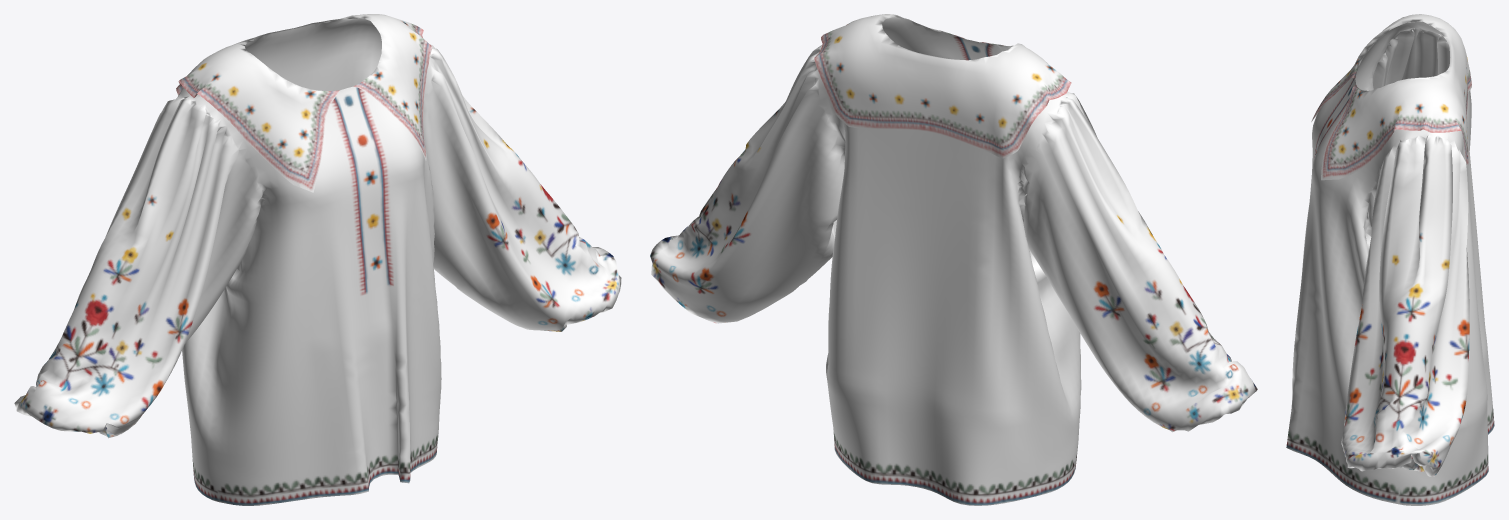
File: Vysh.gltf
3 views of the same model, side by side, from view 1: azimuth 30°, elevation 25°; view 2: azimuth 150°, elevation 25°; view 3: azimuth 270°, elevation 25° (orthographic). The views are drawn at different scales.
Visible parts, largest first — view 1: Vyshivanka; view 2: Vyshivanka; view 3: Vyshivanka.
Boxes of the visible parts, bbox=[...] form: Vyshivanka: bbox=[14, 14, 621, 505]; Vyshivanka: bbox=[650, 14, 1257, 505]; Vyshivanka: bbox=[1286, 14, 1494, 505].
Size of the model in its own units: 1.03 by 0.7247 by 0.3346.
Materials: 2 (2 with a texture image).
